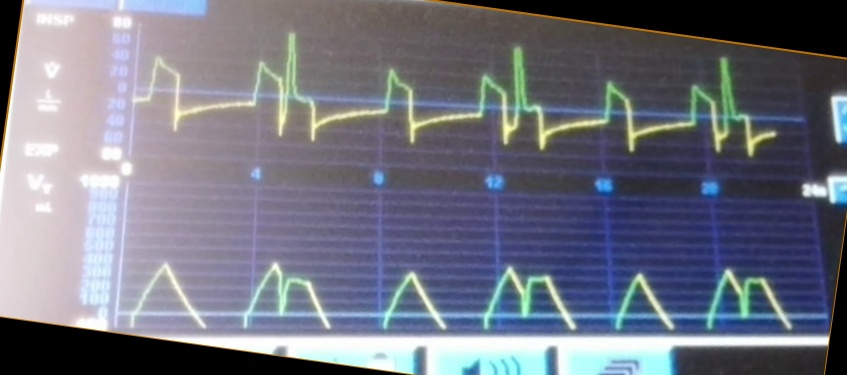Double_Triggering Flow: (250, 30, 776, 157)
Double_Triggering Volume: (233, 247, 797, 332)
